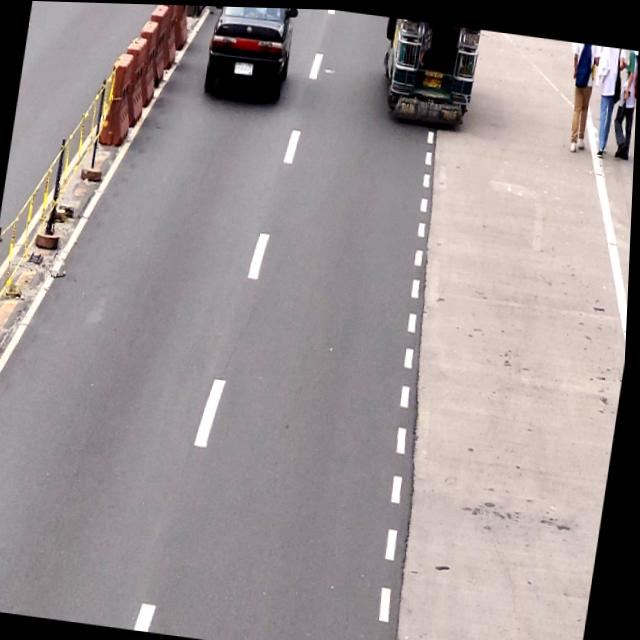Car: (200, 5, 299, 97)
Jeep: (376, 14, 480, 117)
License-Plate: (233, 57, 254, 75), (424, 69, 444, 86)
